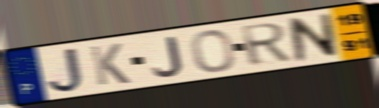J: (46, 46, 86, 95), (151, 34, 186, 78)
K: (87, 42, 133, 88)
N: (286, 12, 340, 64)
O: (189, 28, 237, 74)
R: (238, 21, 294, 68)
